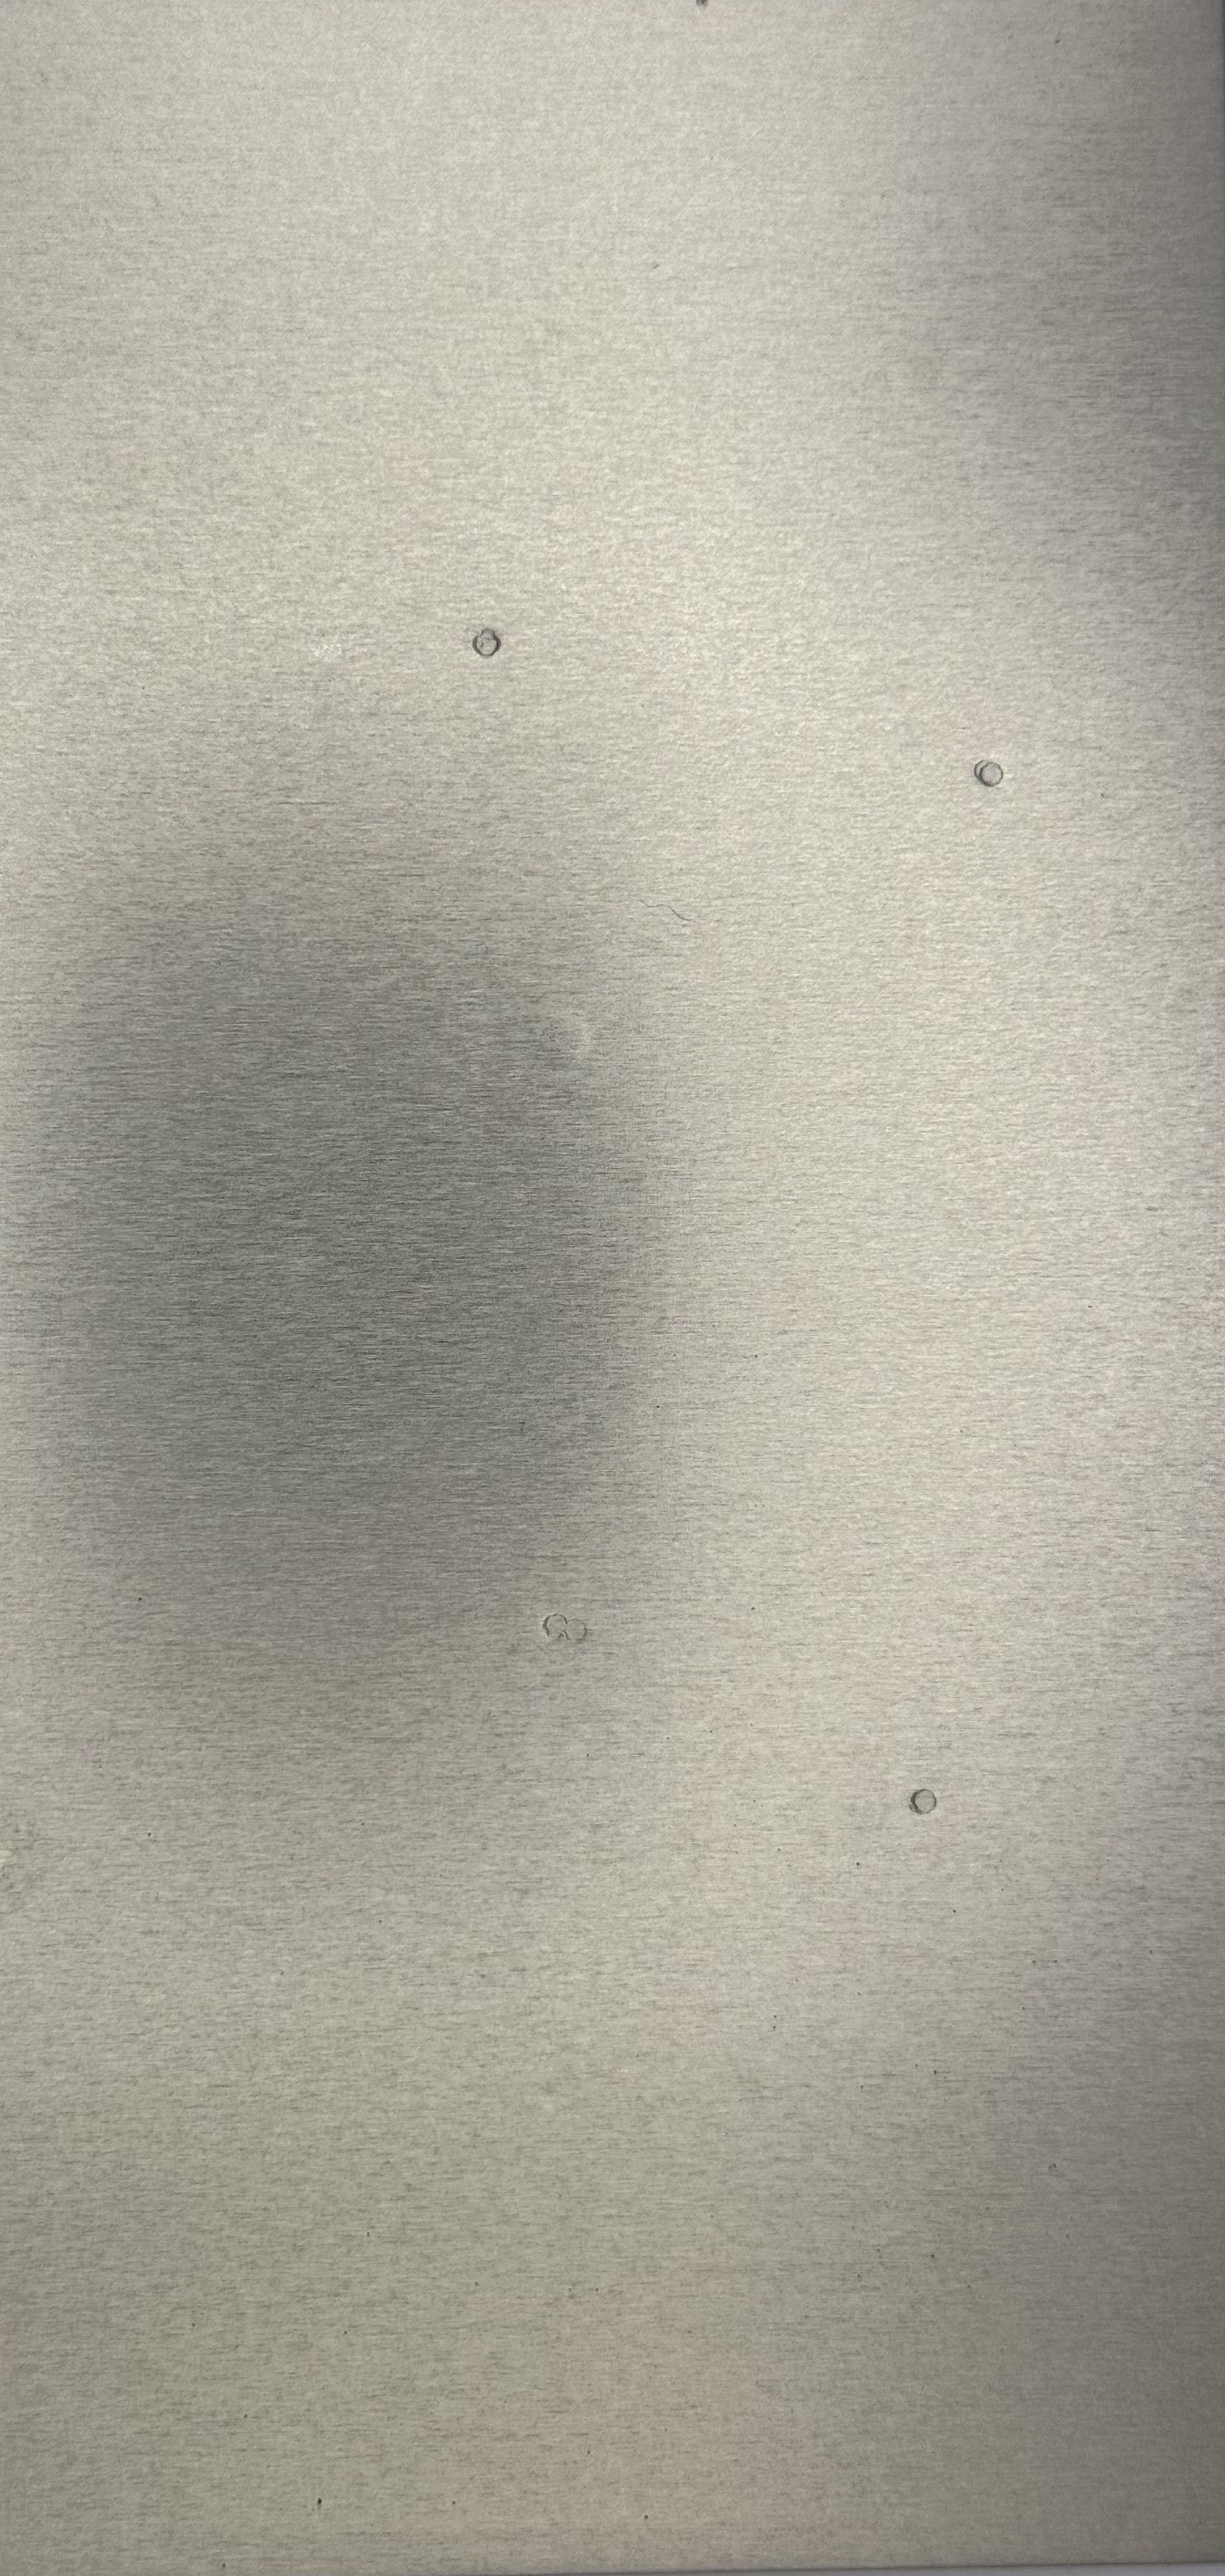Delle: (512, 989, 617, 1091), (522, 1600, 611, 1664), (954, 747, 1020, 803), (895, 1776, 951, 1828), (457, 618, 516, 665)
